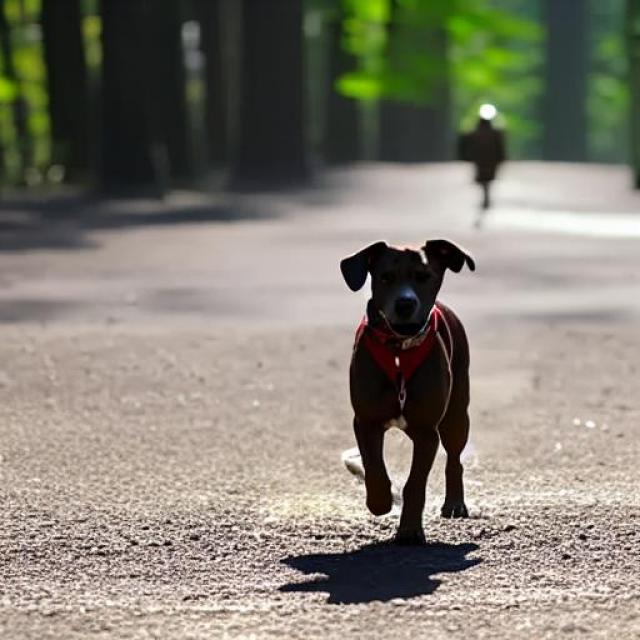Dog: (339, 238, 476, 554)
